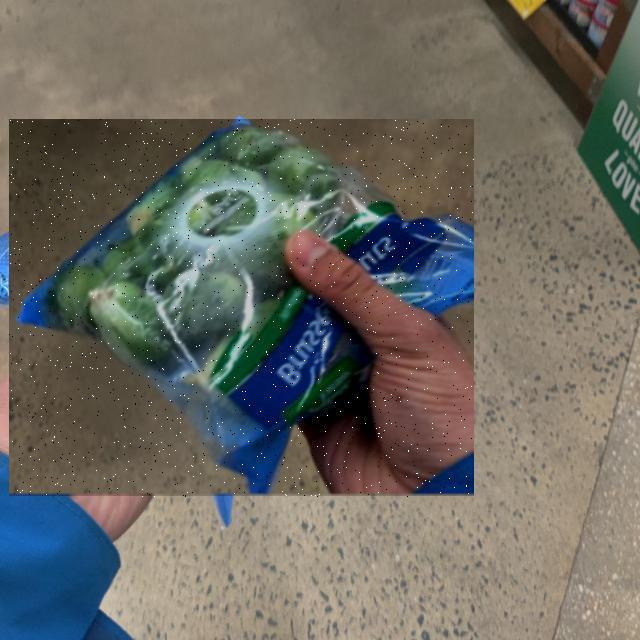Brussel Sprouts: (9, 120, 474, 498)
